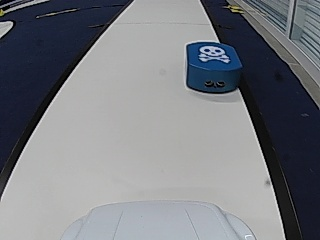danger: (198, 45, 229, 63)
